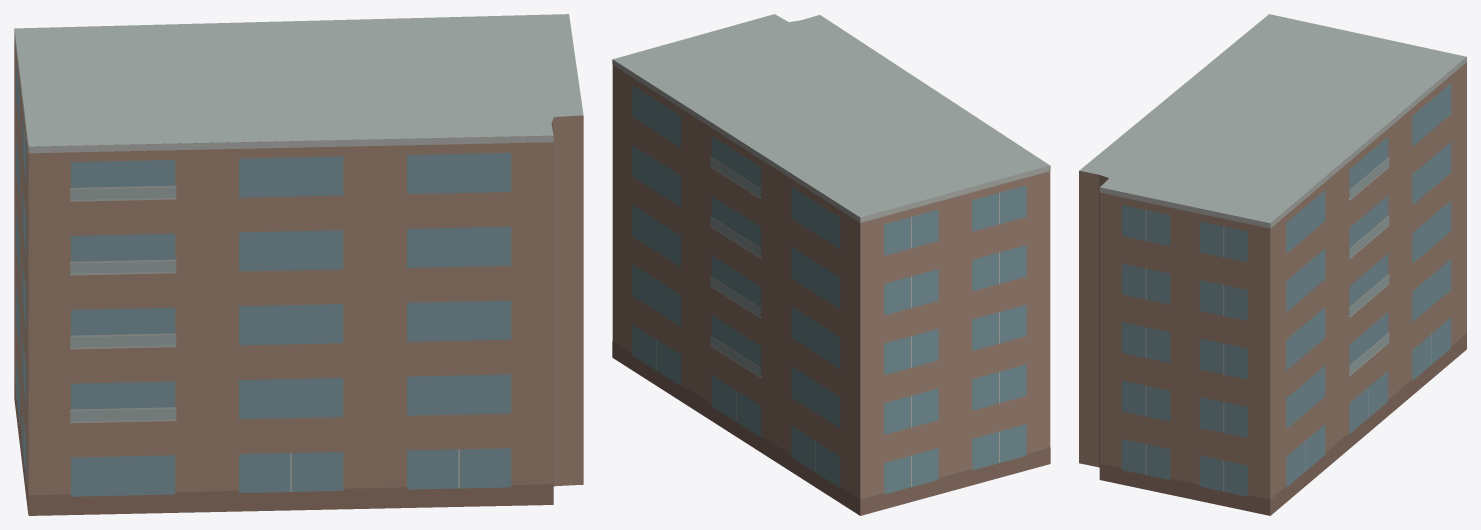
Rendered from survey-upis-32947143.glb.
3 renders of one model, left to right at view 1: azimuth 30°, elevation 25°; view 2: azimuth 150°, elevation 25°; view 3: azimuth 270°, elevation 25°, orthographic. The views are drawn at different scales.
Visible parts, largest first — view 1: survey-upis-32947143.tmp; view 2: survey-upis-32947143.tmp; view 3: survey-upis-32947143.tmp.
Boxes of the visible parts, bbox=[...] form: survey-upis-32947143.tmp: bbox=[14, 14, 583, 515]; survey-upis-32947143.tmp: bbox=[612, 14, 1050, 515]; survey-upis-32947143.tmp: bbox=[1079, 14, 1466, 515].
Bounding box in the file's own units: 20.72 × 13.5 × 16.22.
